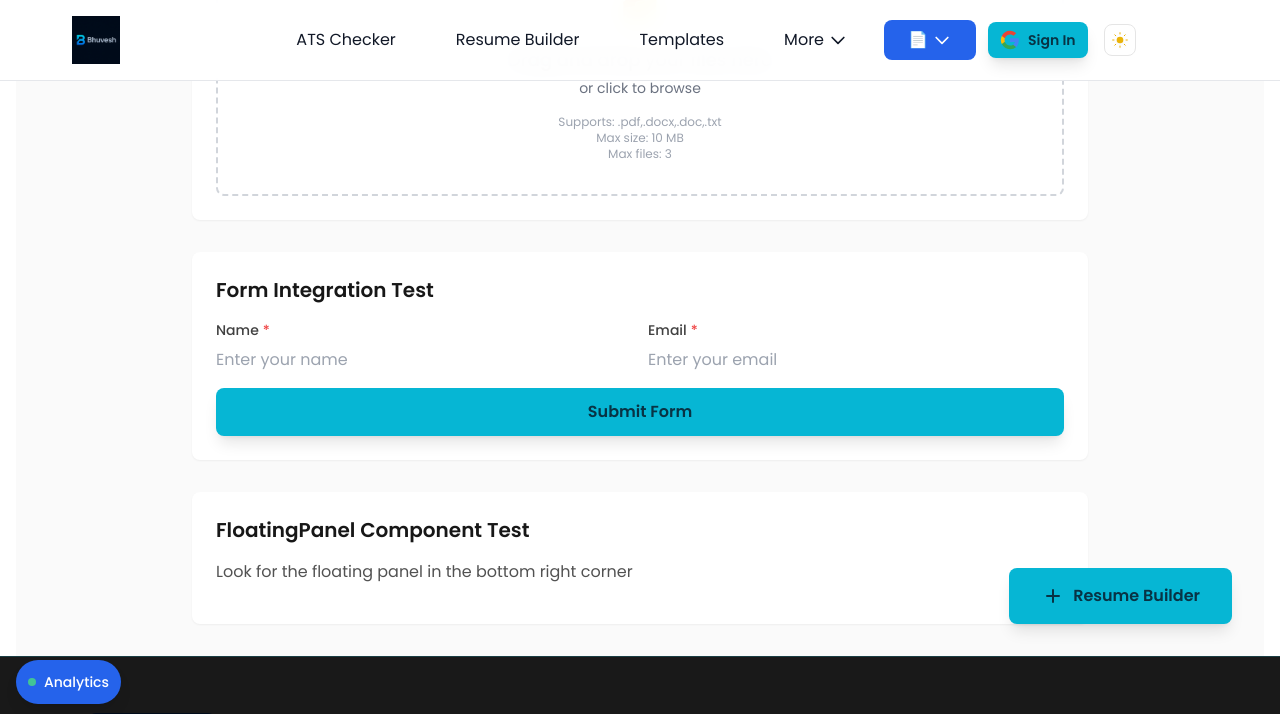
Test: Component System E2E Tests › Component Integration › should handle loading states
(page scrolled)
Note: Fill form
Type "John Doe" into the field with test id "name-input" at (374, 360), box 216,348 -> 532,372
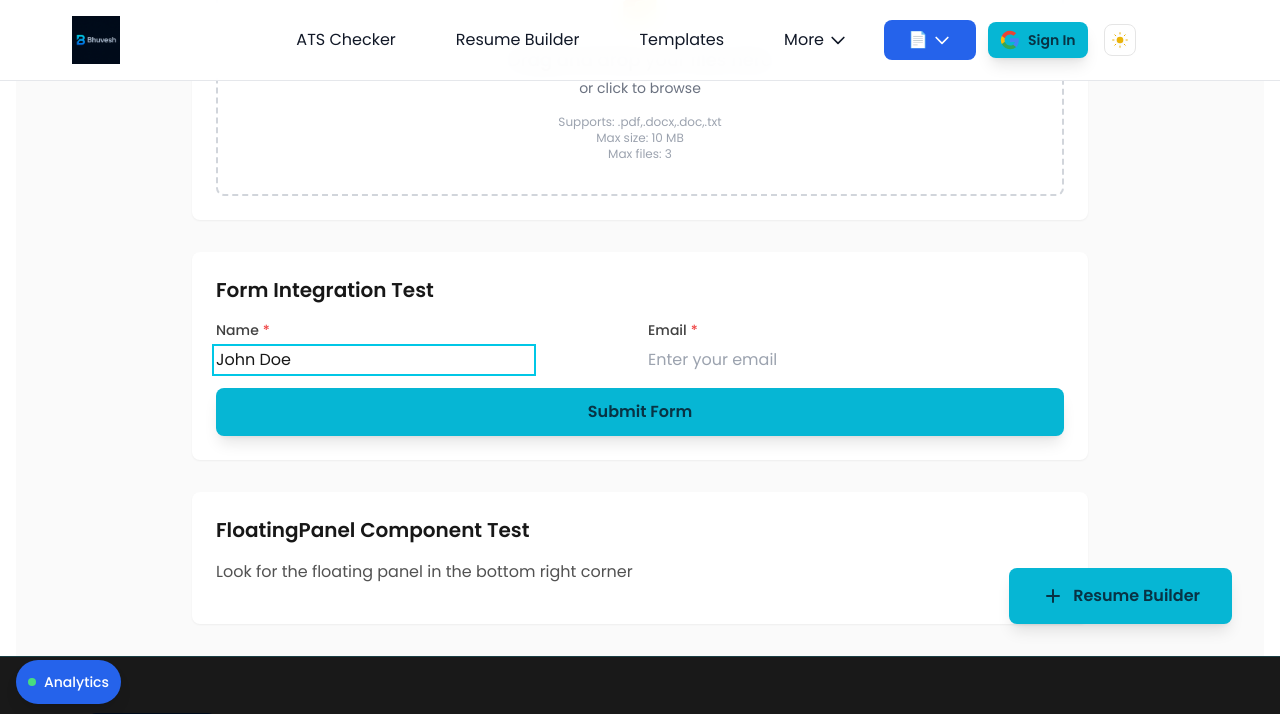
Type "john@example.com" into the field with test id "email-input" at (806, 360), box 648,348 -> 964,372
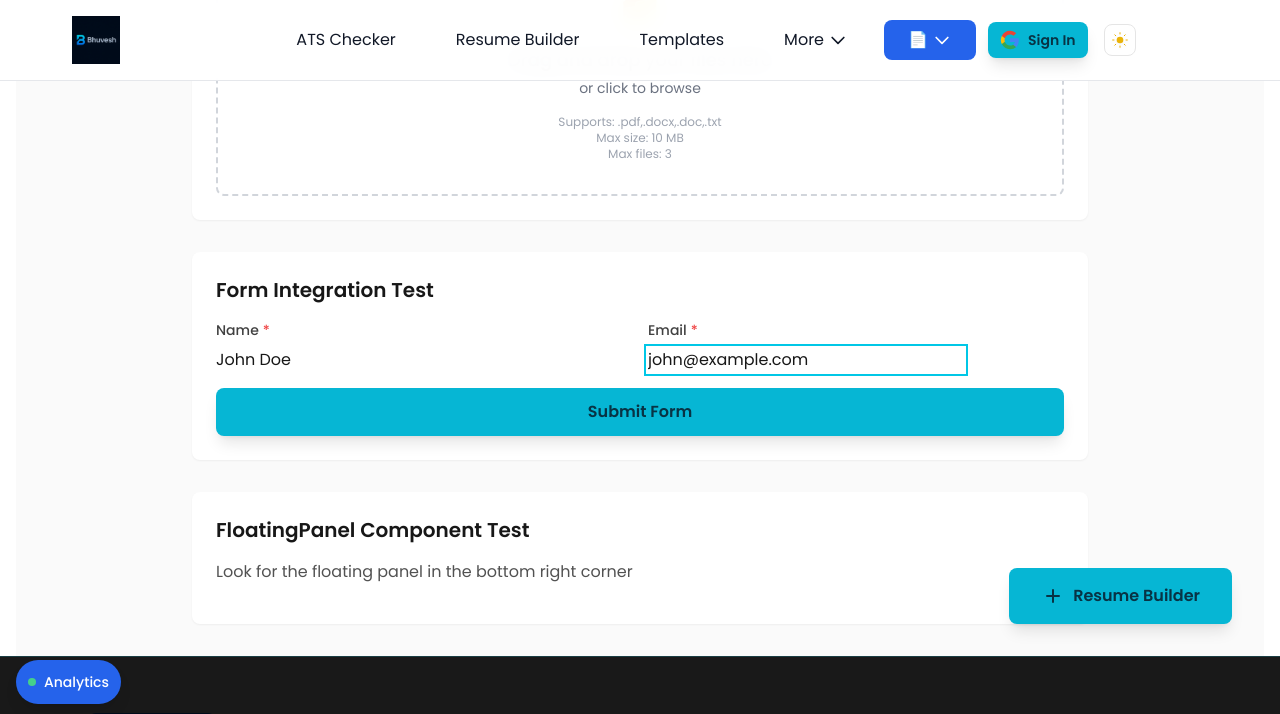
Note: Submit form
Click the button with test id "submit-button" at (640, 412), box 216,388 -> 1064,436
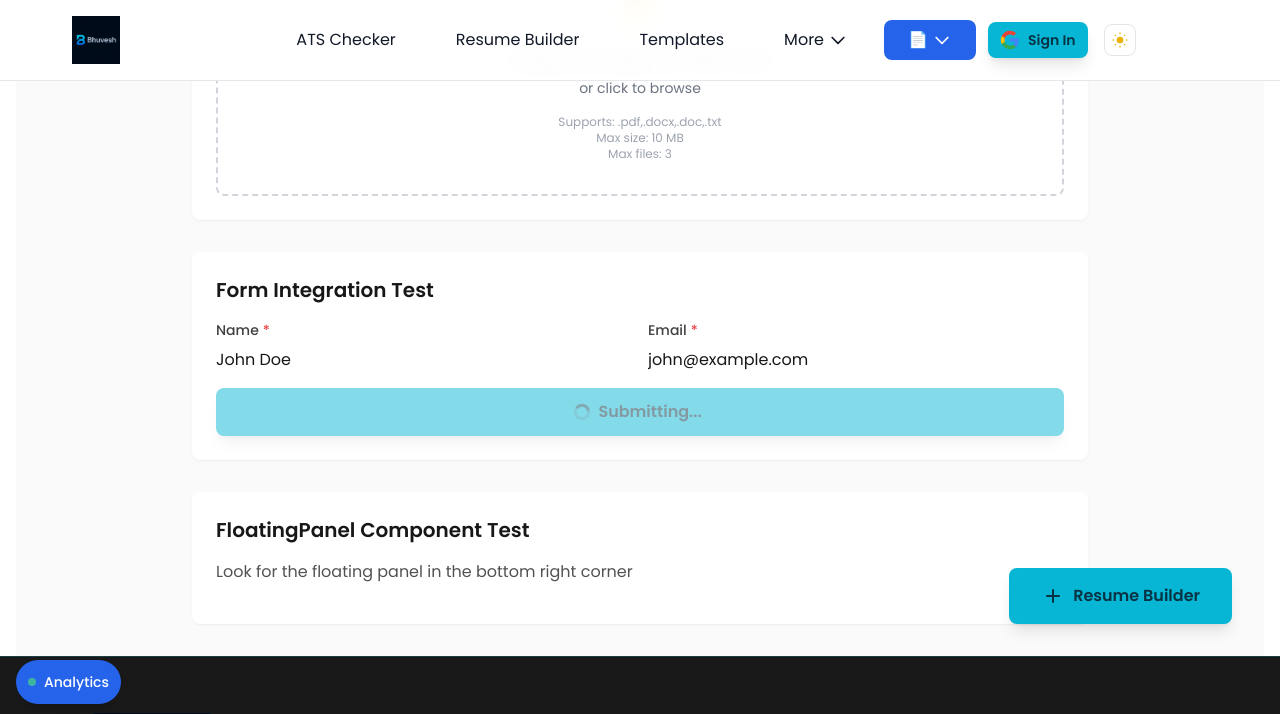
expect the button with test id "submit-button" is disabled: met, box 216,388 -> 1064,436
expect the button with test id "submit-button" reads "Submitting...": met, box 216,388 -> 1064,436
